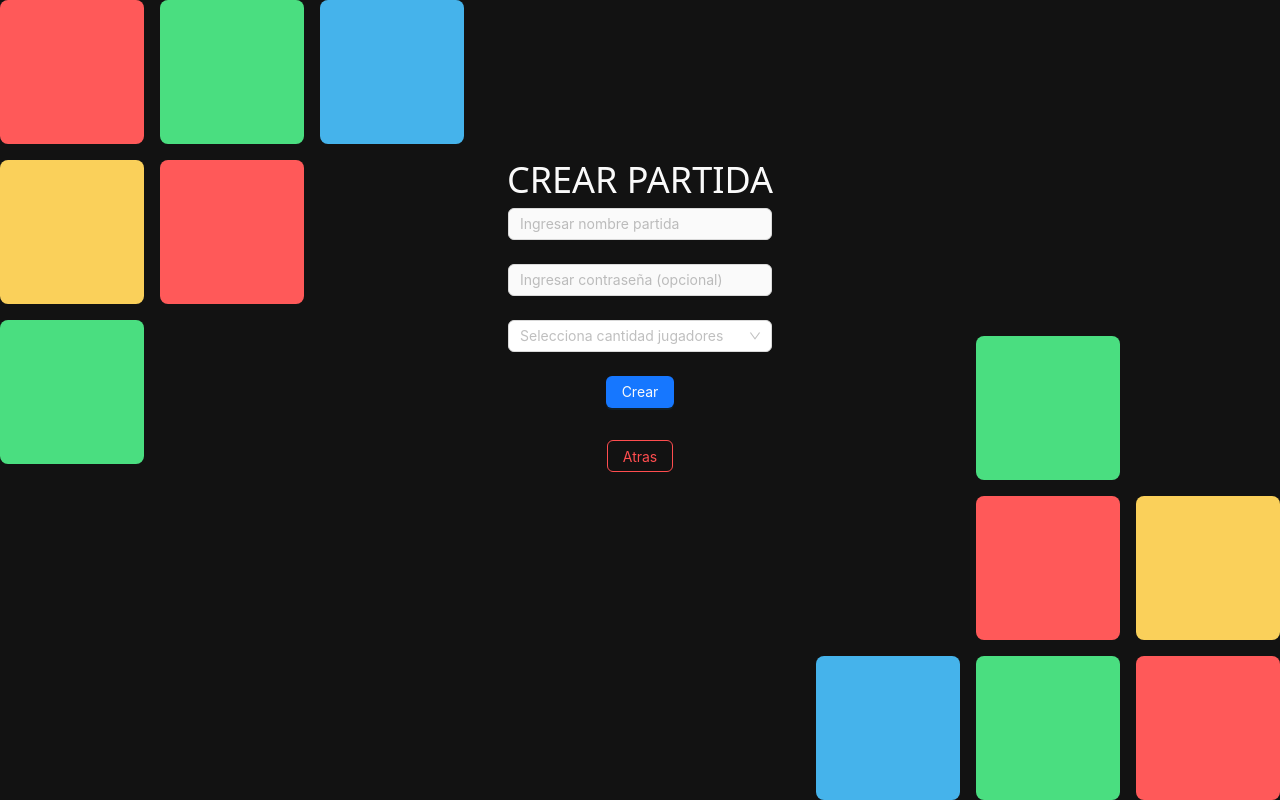
Test: CreateGame › should display error when game name is longer than 20 characters
In the field with placeholder "Ingresar nombre partida": (640, 224) [508, 208, 772, 240], type "game12345678901234567890"
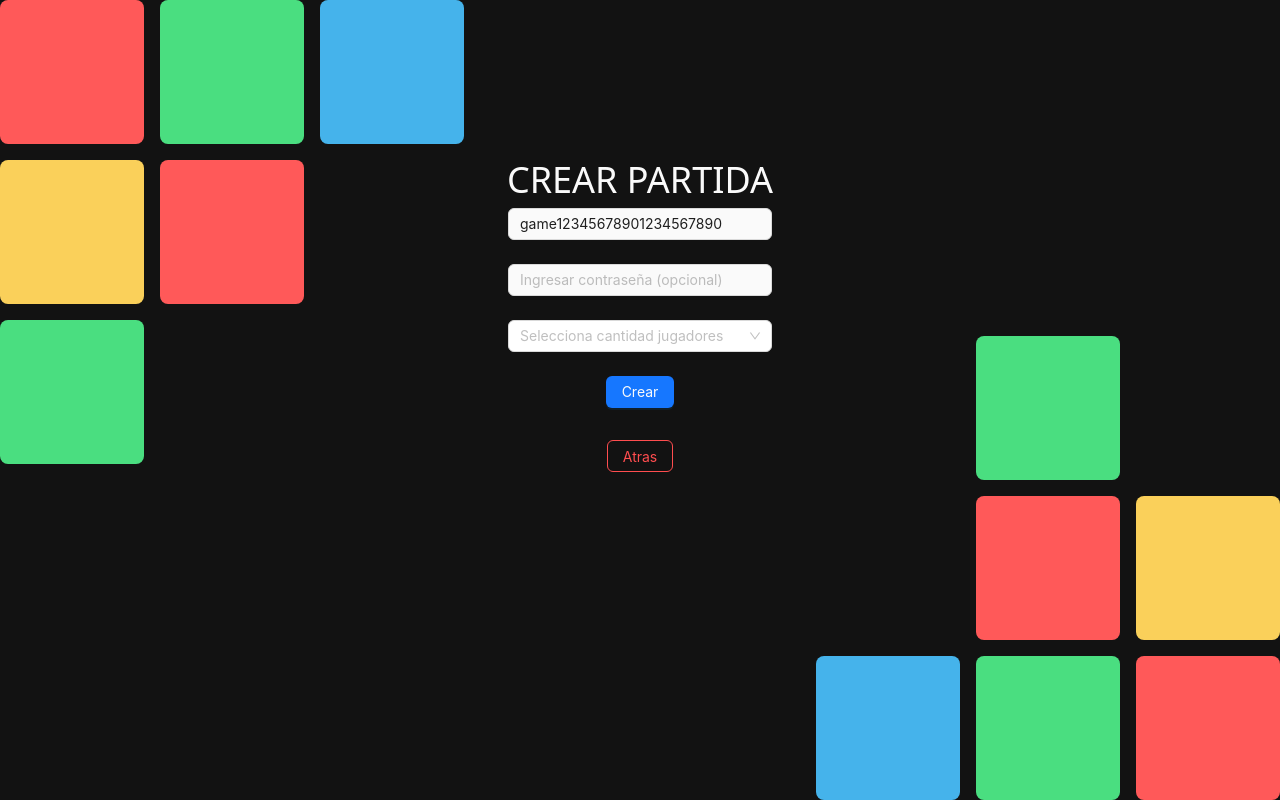
Click the button "Crear": click(640, 392) [606, 376, 674, 408]
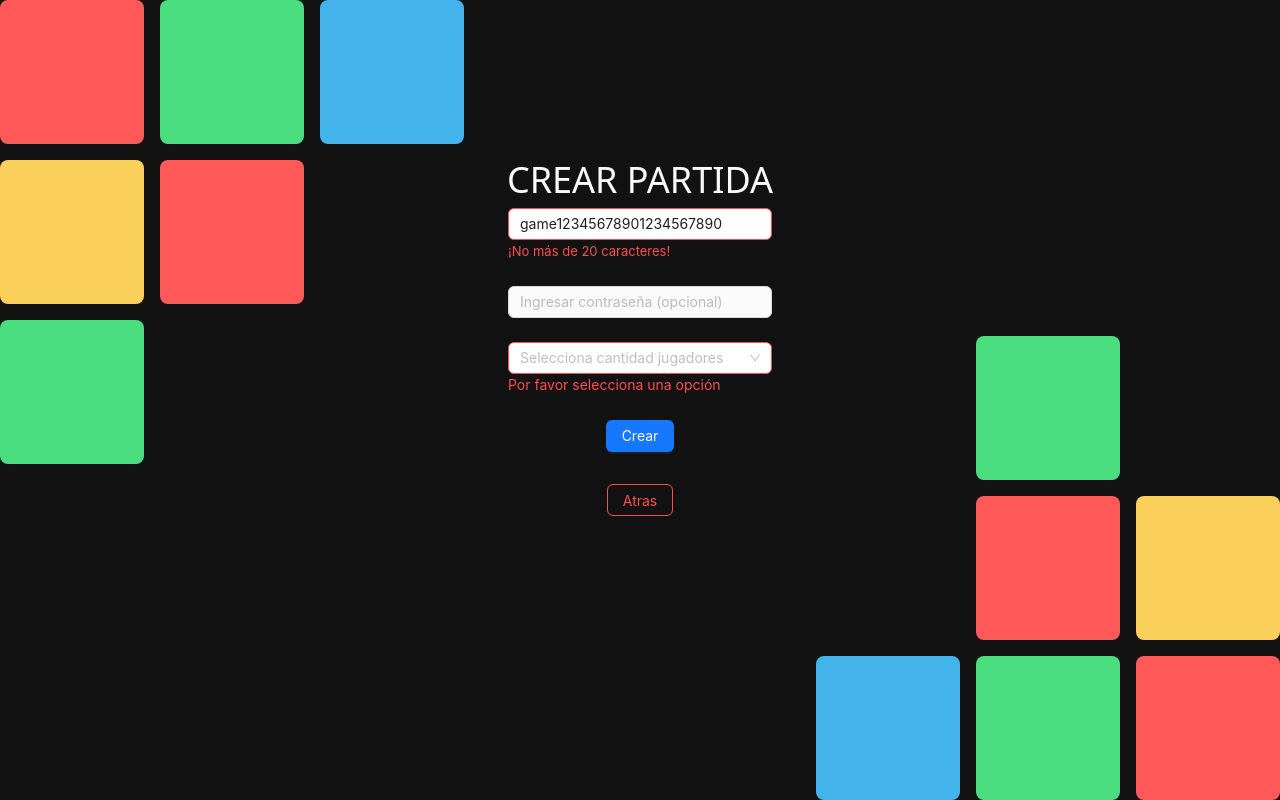
Result: the text "¡No más de 20 caracteres!" is shown at [508, 243, 670, 259]
